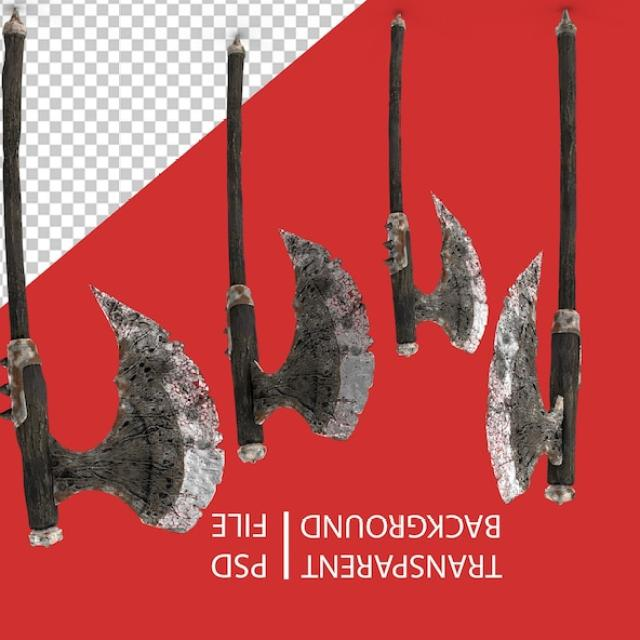Gun: (0, 8, 228, 562), (220, 26, 378, 464), (478, 0, 592, 522), (378, 8, 506, 378)
